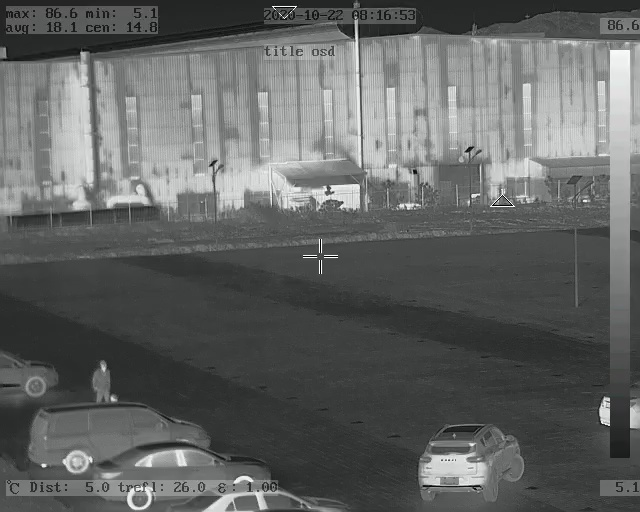person: (91, 359, 113, 404)
vehicle: (29, 404, 209, 473), (94, 442, 269, 509), (418, 424, 527, 496), (1, 349, 61, 399)
